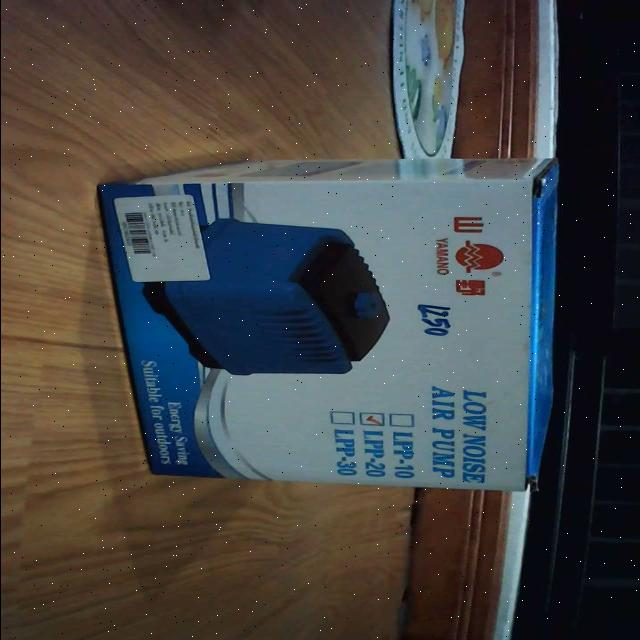YAMANO_LPP_20: (76, 149, 596, 503)
